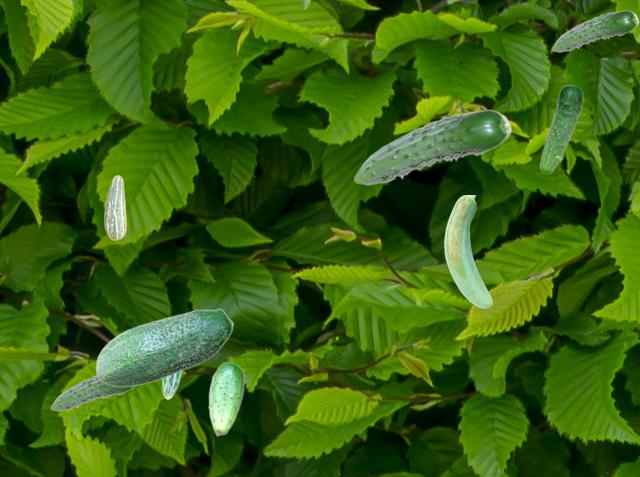cucumber: (353, 109, 511, 184), (95, 308, 233, 386), (444, 195, 491, 307), (539, 85, 582, 173), (551, 10, 638, 51), (50, 375, 134, 410), (208, 361, 243, 435), (104, 175, 125, 239), (161, 372, 182, 398)
